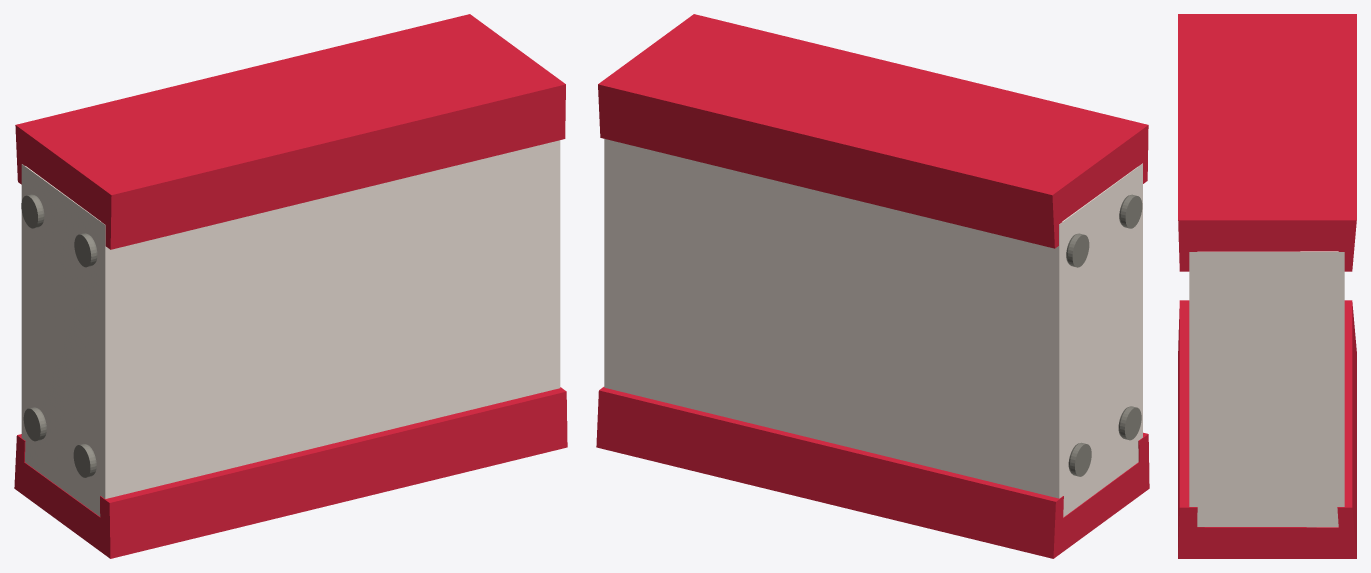
The model's file is door.fbx.
3 views of the same model, side by side, from view 1: azimuth 30°, elevation 25°; view 2: azimuth 150°, elevation 25°; view 3: azimuth 270°, elevation 25° (orthographic). The views are drawn at different scales.
Parts seen in each view (by area): view 1: Plane, Plane.001, Cone.003; view 2: Plane, Plane.001, Cone.003; view 3: Plane.001, Plane.
Boxes of the visible parts, x1=… form: Plane: x1=21, y1=140, x2=560, y2=516; Plane.001: x1=14, y1=14, x2=567, y2=558; Cone.003: x1=21, y1=194, x2=97, y2=477; Plane: x1=604, y1=139, x2=1142, y2=517; Plane.001: x1=596, y1=14, x2=1149, y2=558; Cone.003: x1=1066, y1=194, x2=1142, y2=476; Plane.001: x1=1178, y1=14, x2=1356, y2=558; Plane: x1=1189, y1=251, x2=1344, y2=527.
Size of the model in its own units: 327 by 245 by 117.
